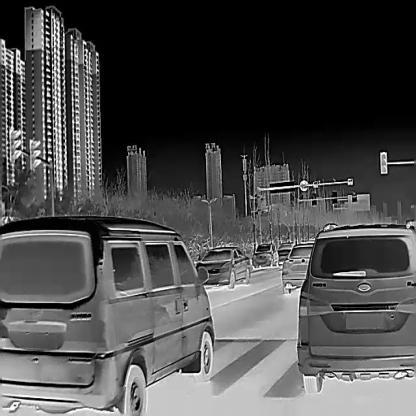car: (0, 214, 214, 415), (296, 218, 415, 391), (195, 246, 251, 288), (280, 241, 313, 293), (252, 242, 278, 267), (277, 241, 294, 260)
